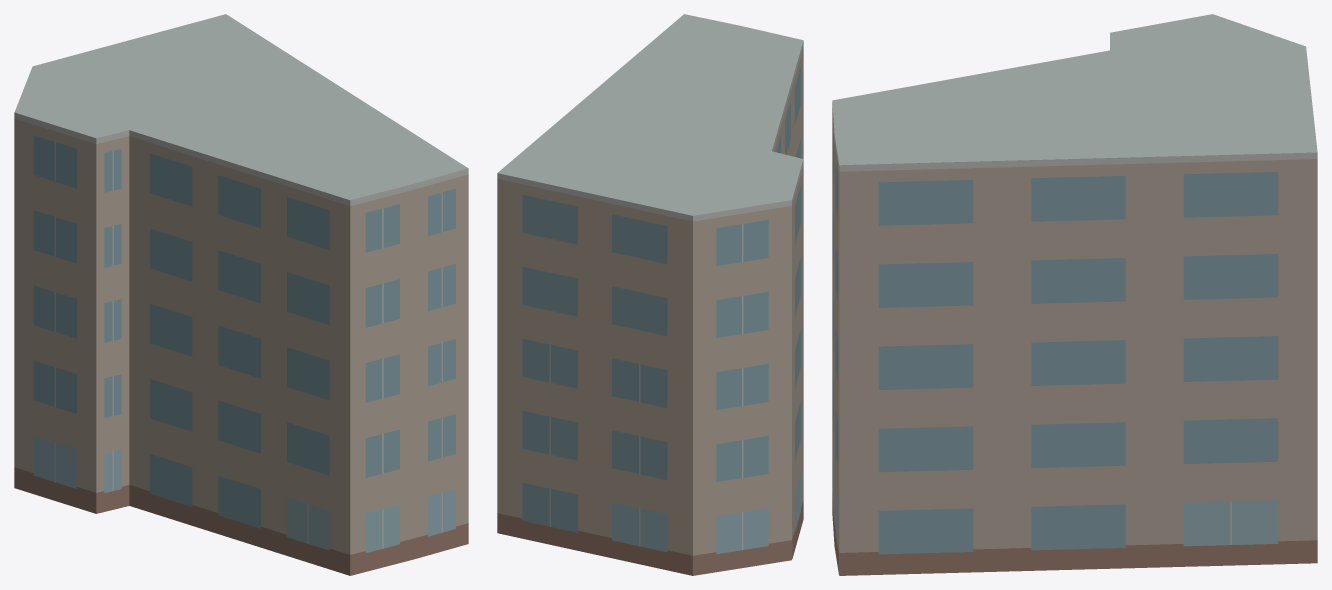
The model's file is survey-upis-32629226.glb.
3 renders of one model, left to right at view 1: azimuth 30°, elevation 25°; view 2: azimuth 150°, elevation 25°; view 3: azimuth 270°, elevation 25°, orthographic. The views are drawn at different scales.
Parts seen in each view (by area): view 1: survey-upis-32629226.tmp; view 2: survey-upis-32629226.tmp; view 3: survey-upis-32629226.tmp.
Part boxes in pixels (box(x1,y1,x2,y2)): survey-upis-32629226.tmp: box(14, 14, 468, 575); survey-upis-32629226.tmp: box(497, 14, 803, 575); survey-upis-32629226.tmp: box(832, 14, 1317, 575).
Size of the model in its own units: 12.17 by 15.4 by 16.5.
